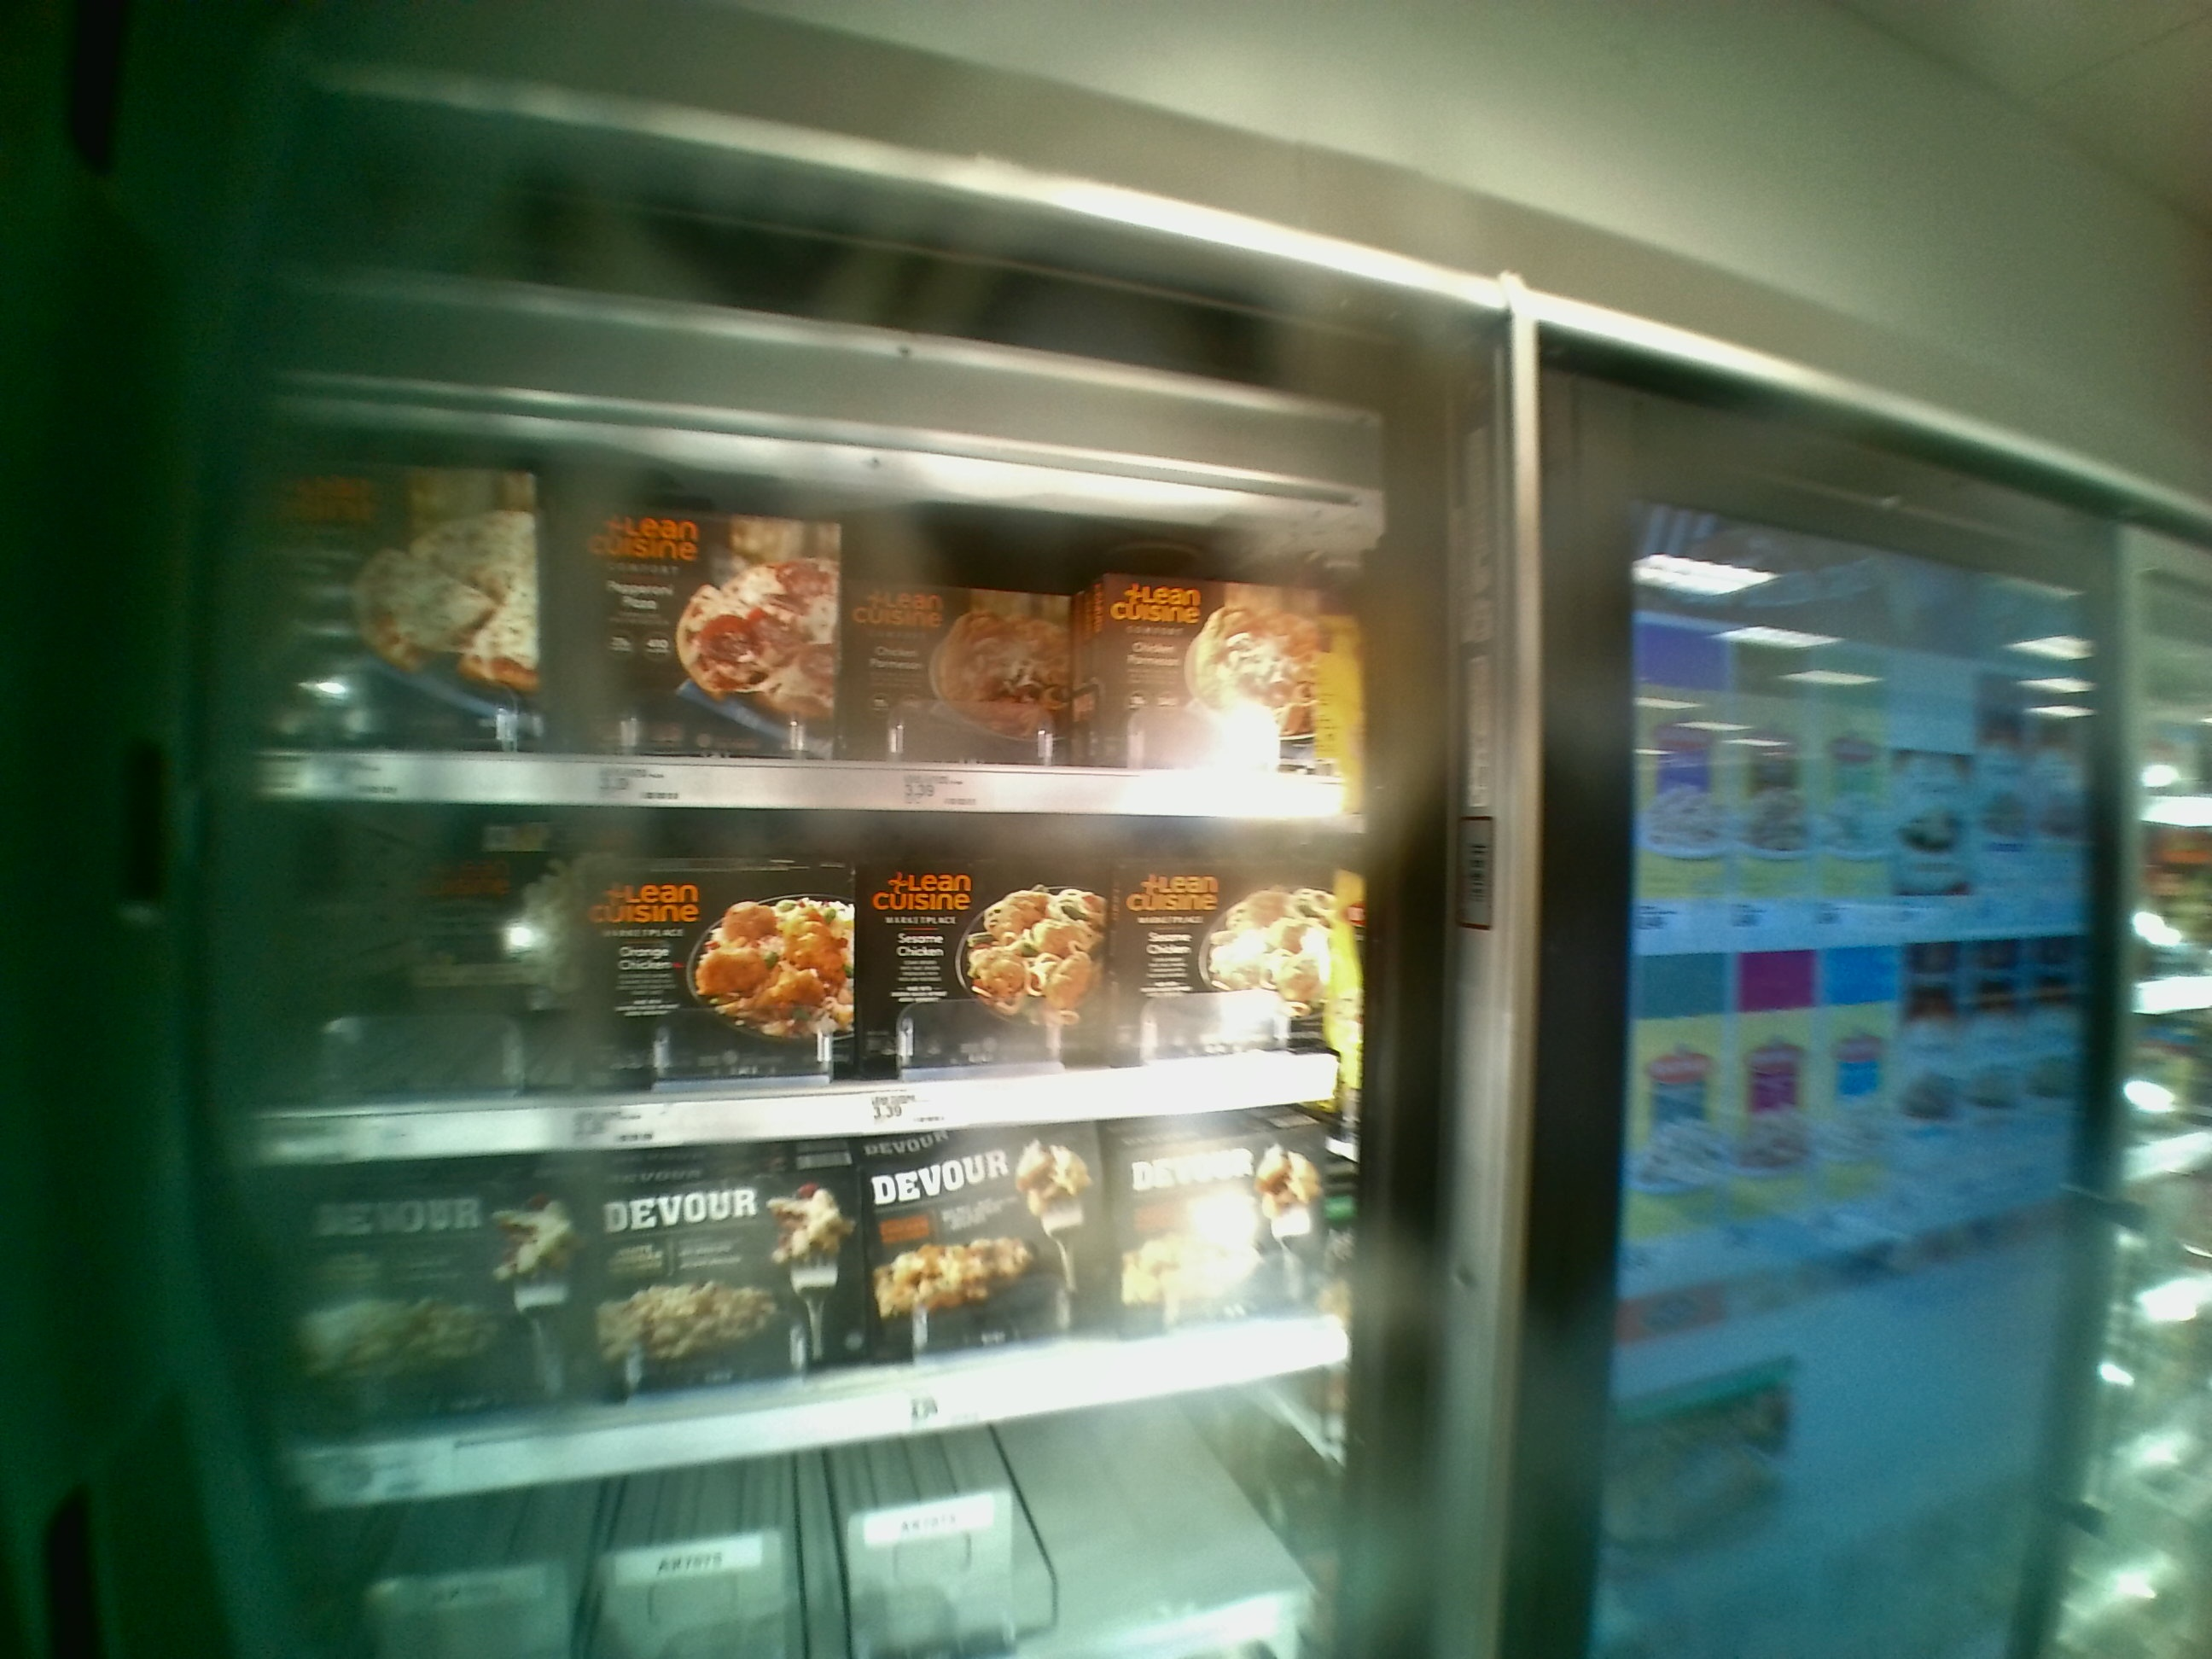shelf: (251, 361, 1359, 823), (244, 1089, 1345, 1511), (230, 802, 1353, 1162)
